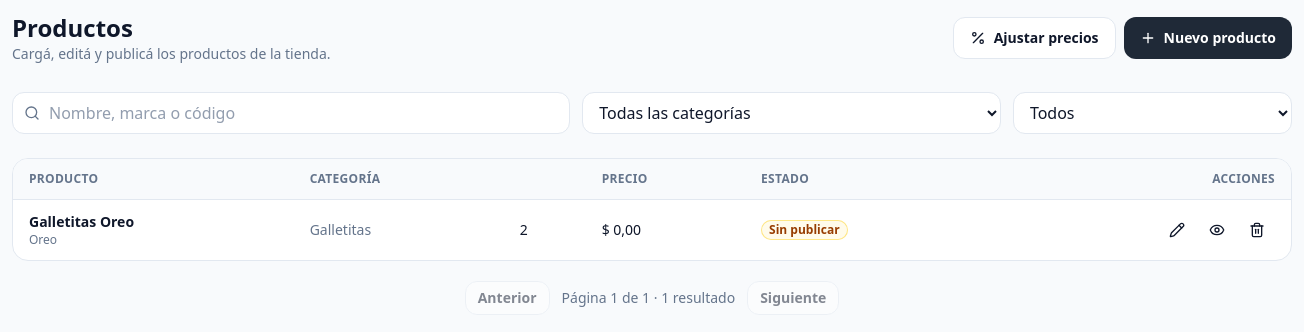
Test: Admin · Productos › publica un producto desde la tabla
The image size is (1304, 332).
Click the button named "Publicar Galletitas Oreo".
click(1217, 230)  # box [1199,212,1235,248]
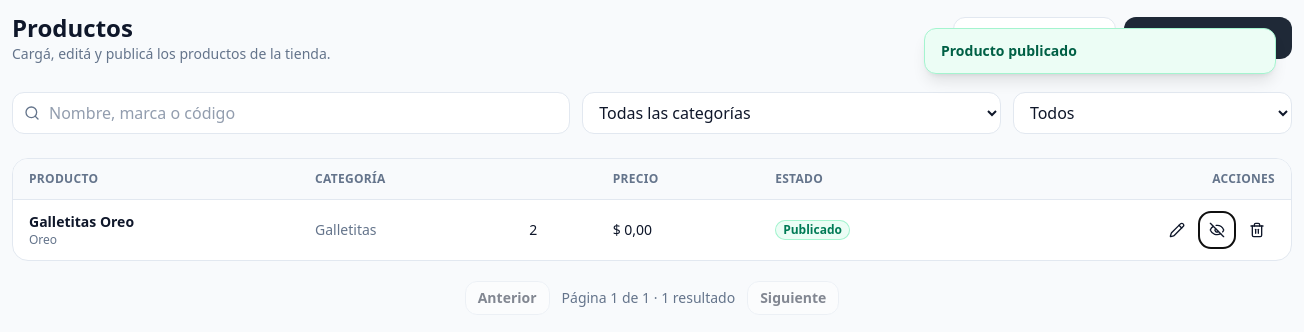
Result: the text "Producto publicado" is shown at [924,28,1276,74]
Result: the text "Publicado" is shown at [775,220,850,240]
